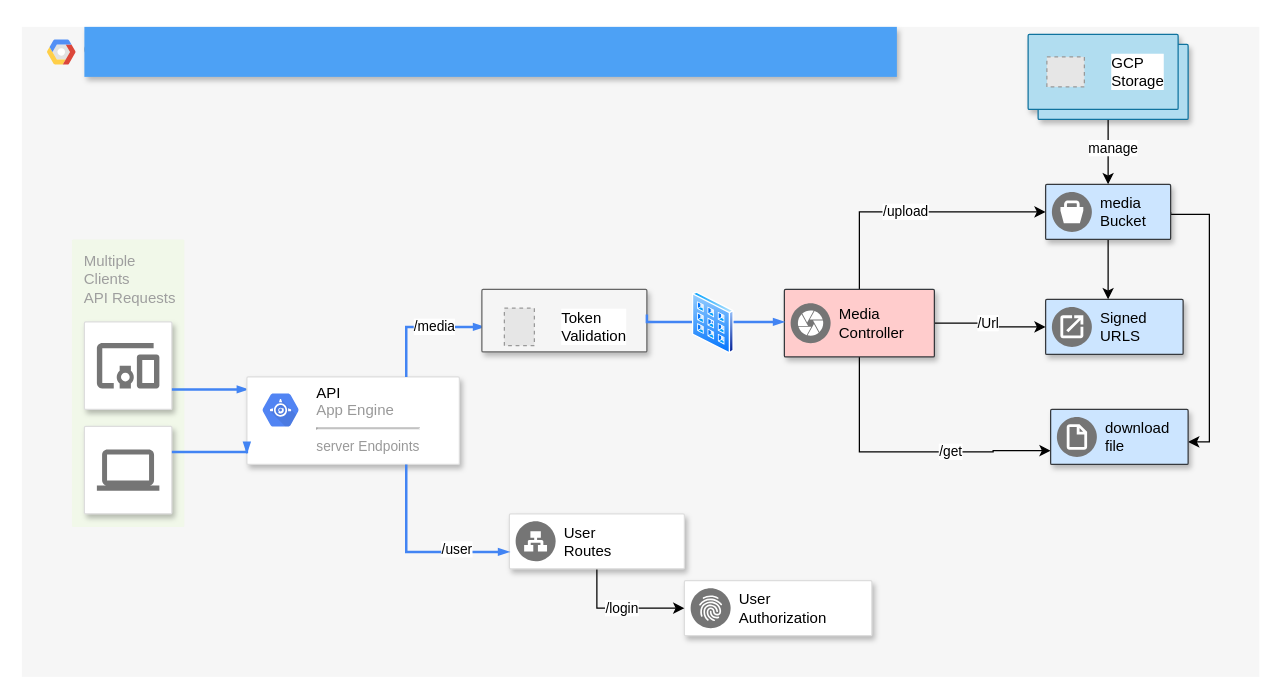
This 1280x698 diagram has some shape labels left out. Grey dashed boxes stand in for pictures. The centre of each missing label's shape, as x and y in pixels:
"Architecture: Media uploader > API Hosting" goes at [491,53].
"validate images type" goes at [713,322].
